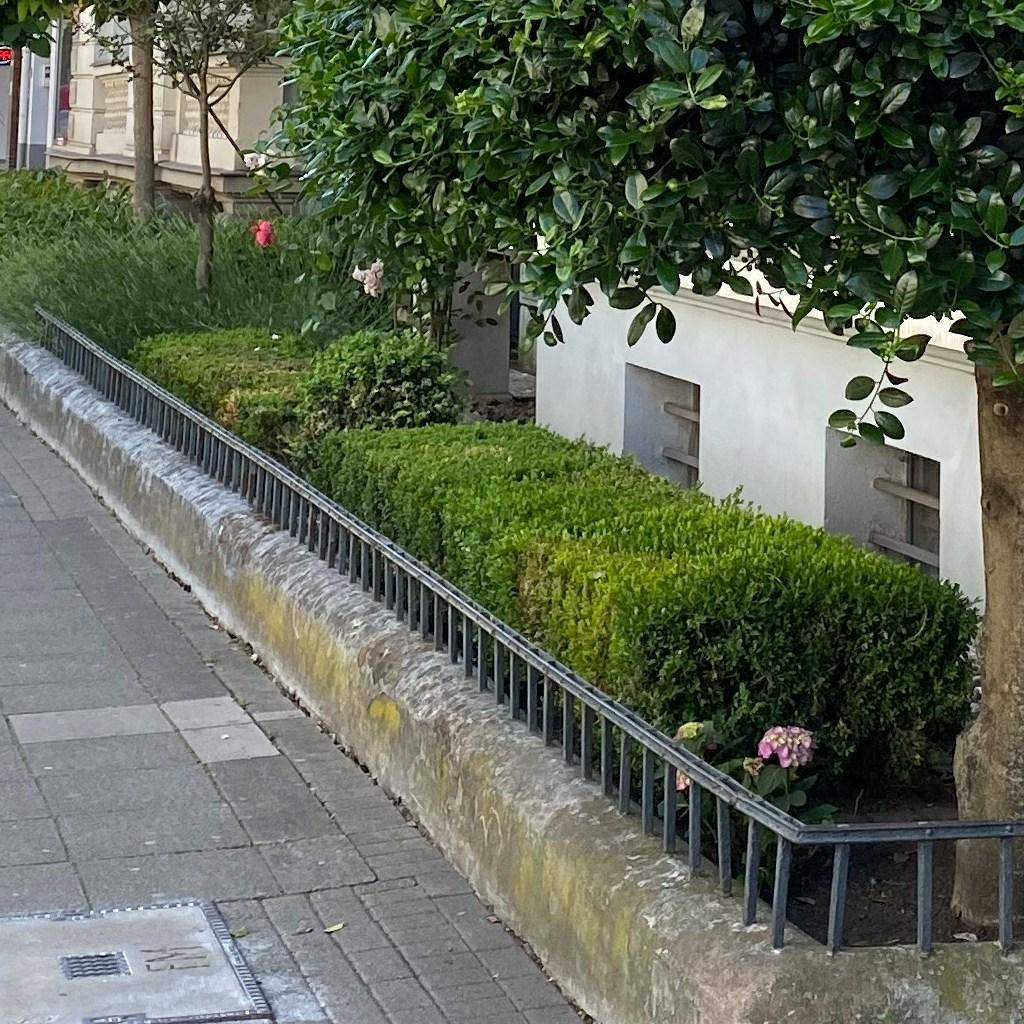tree: (244, 1, 1023, 930), (74, 1, 292, 303), (72, 1, 180, 241), (1, 1, 47, 169)
